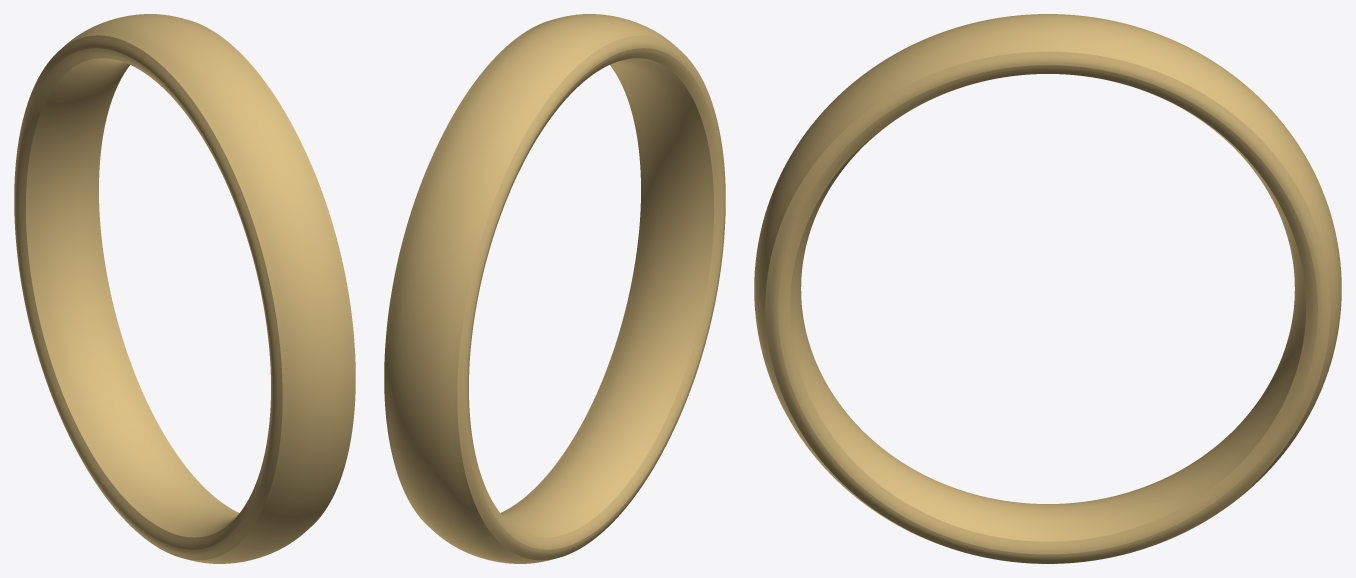
The picture shows the model from 3 angles, left to right: view 1: azimuth 30°, elevation 25°; view 2: azimuth 150°, elevation 25°; view 3: azimuth 270°, elevation 25°; orthographic projection. The views are drawn at different scales.
Parts seen in each view (by area): view 1: P2-Outer, P2-Inner, P2 Sides; view 2: P2-Outer, P2-Inner, P2 Sides; view 3: P2 Sides, P2-Outer, P2-Inner.
Part boxes in pixels (bbox=[...]): P2-Outer: bbox=[59, 14, 355, 563]; P2-Inner: bbox=[26, 58, 239, 537]; P2 Sides: bbox=[14, 35, 354, 560]; P2-Outer: bbox=[384, 14, 680, 563]; P2-Inner: bbox=[500, 58, 713, 537]; P2 Sides: bbox=[385, 35, 725, 560]; P2 Sides: bbox=[765, 51, 1330, 563]; P2-Outer: bbox=[754, 14, 1341, 563]; P2-Inner: bbox=[790, 74, 1305, 541].
Bounding box in the file's own units: 0.3993 × 2.38 × 2.38.
